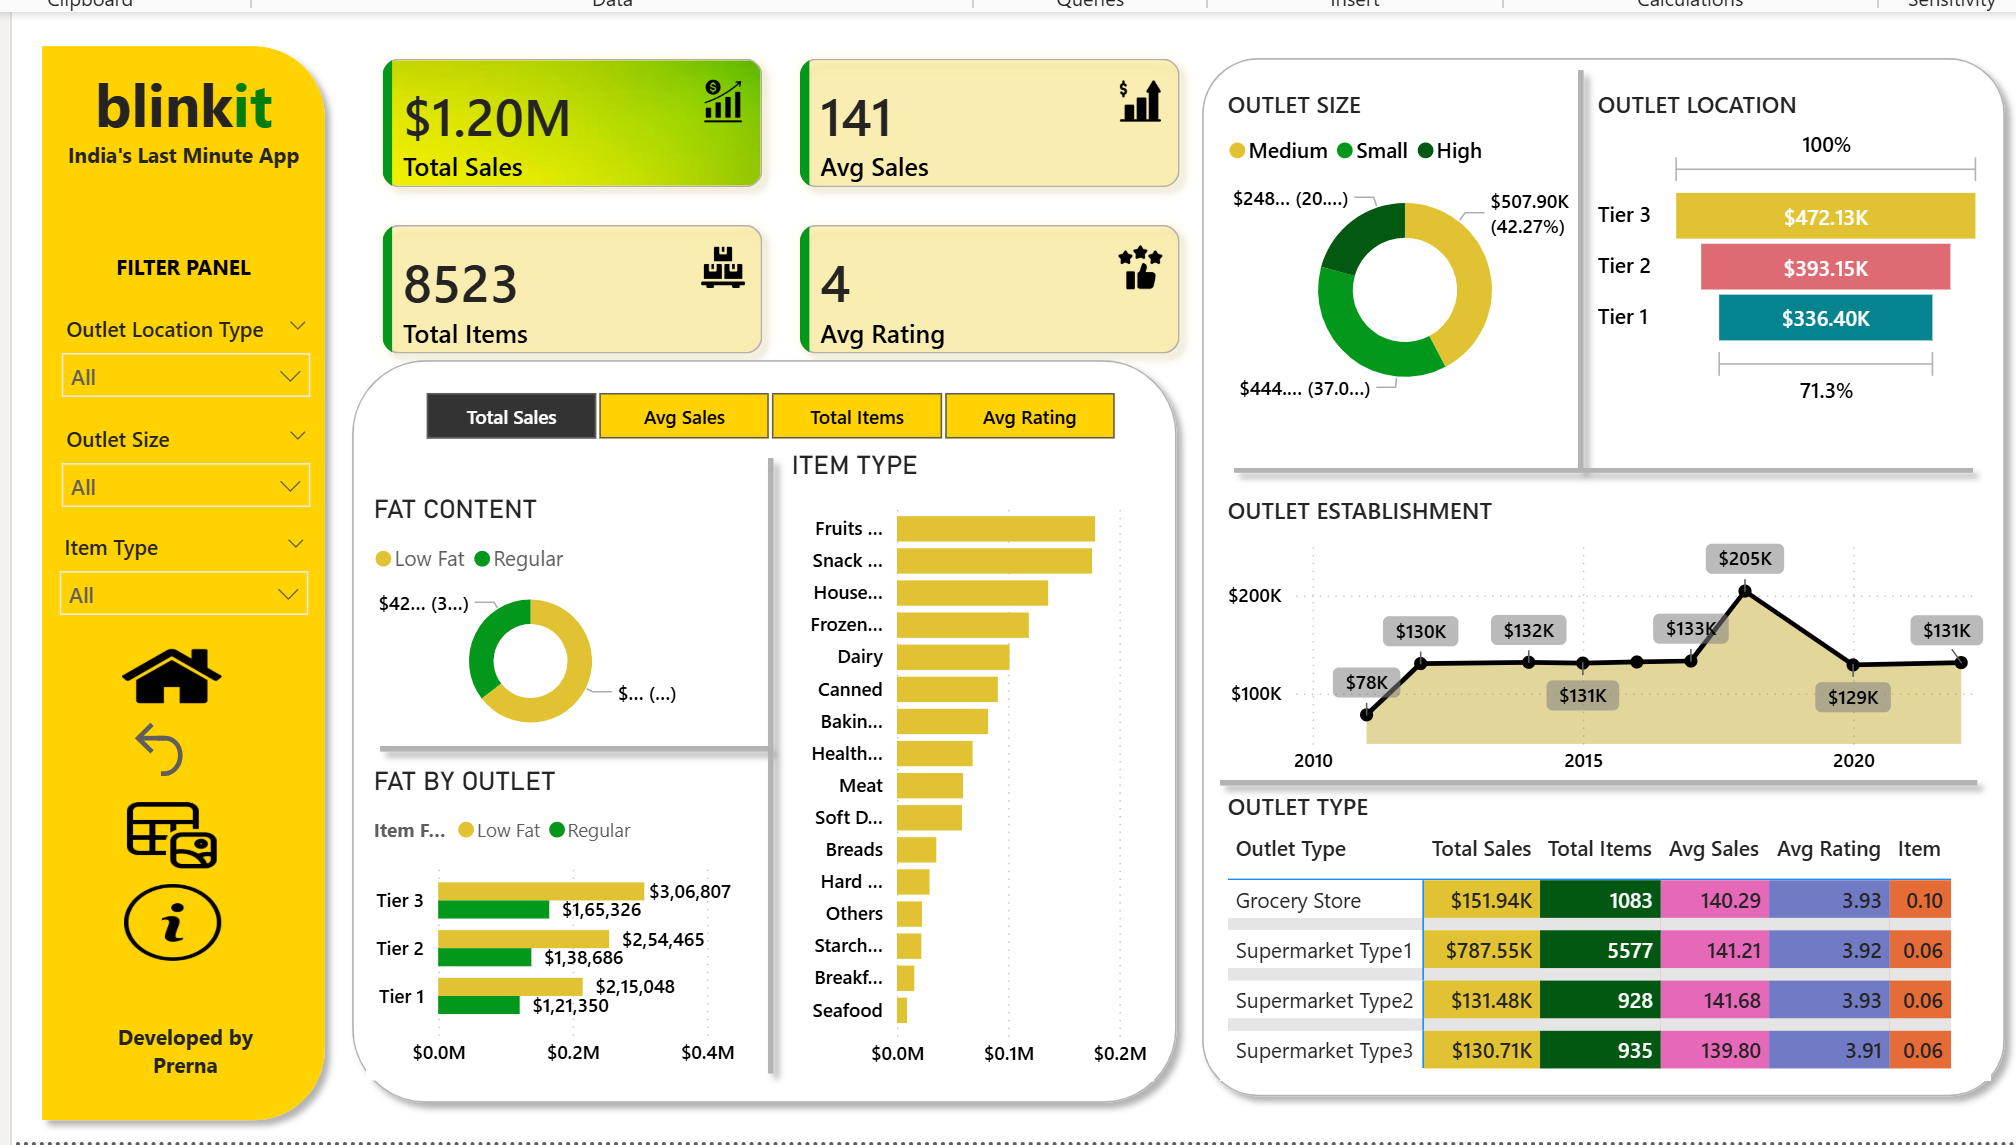

What the dashboard file says about the page in this screenshot:
{"tool":"powerbi","page":{"name":"Dashboard","canvas":[1280,720],"ordinal":0},"visuals":[{"type":"shape","box":[10.6,13.2,198.1,702.7],"z":0},{"type":"textbox","box":[45.9,27.6,127.1,67.4],"z":1000},{"type":"textbox","box":[30.6,76.6,157.7,35.2],"z":2000},{"type":"cardVisual","fields":{"Data":["BlinkIT Grocery Data.Total Sales","BlinkIT Grocery Data.Avg Sales","BlinkIT Grocery Data.Total Items","BlinkIT Grocery Data.Avg Rating"]},"box":[219.3,13.2,542.9,223.2],"z":3000},{"type":"shape","box":[208.2,212.8,543.5,491.5],"z":4000},{"type":"slicer","fields":{"Values":["Parameter.Parameter"]},"box":[238.9,235.8,488.4,42.9],"z":5000},{"type":"donutChart","title":"FAT CONTENT","fields":{"Y":["BlinkIT Grocery Data.Total Sales"],"Category":["BlinkIT Grocery Data.Item Fat Content"]},"box":[225.1,307.8,209.8,162.3],"z":6000},{"type":"clusteredBarChart","title":"FAT BY OUTLET","fields":{"Y":["BlinkIT Grocery Data.Total Sales"],"Category":["BlinkIT Grocery Data.Outlet Location Type"],"Series":["BlinkIT Grocery Data.Item Fat Content"]},"box":[225.1,480.8,255.7,200.6],"z":7000},{"type":"barChart","title":"ITEM TYPE","fields":{"Y":["BlinkIT Grocery Data.Total Sales"],"Category":["BlinkIT Grocery Data.Item Type"]},"box":[491.5,278.7,235.8,402.7],"z":8000},{"type":"shape","box":[225.1,459.3,266.4,21.4],"z":9000},{"type":"shape","box":[989.1,27.6,27.6,251.1],"z":10000},{"type":"shape","box":[750.2,19.9,529.8,679.8],"z":11000},{"type":"donutChart","title":" OUTLET SIZE","fields":{"Category":["BlinkIT Grocery Data.Outlet Size"],"Y":["BlinkIT Grocery Data.Total Sales"]},"box":[770.1,49,235.8,208.2],"z":12000},{"type":"funnel","title":"OUTLET LOCATION","fields":{"Category":["BlinkIT Grocery Data.Outlet Location Type"],"Y":["BlinkIT Grocery Data.Total Sales"]},"box":[1005.9,49,255.7,208.2],"z":13000},{"type":"lineChart","title":"OUTLET ESTABLISHMENT","fields":{"Category":["BlinkIT Grocery Data.Outlet Establishment Year"],"Y":["BlinkIT Grocery Data.Total Sales"]},"box":[770.1,307.8,491.5,188.3],"z":14000},{"type":"pivotTable","title":"OUTLET TYPE","fields":{"Rows":["BlinkIT Grocery Data.Outlet Type"],"Values":["BlinkIT Grocery Data.Total Sales","BlinkIT Grocery Data.Total Items","BlinkIT Grocery Data.Avg Sales","BlinkIT Grocery Data.Avg Rating","Avg(BlinkIT Grocery Data.Item Visibility)"]},"box":[770.1,496.1,491.5,185.3],"z":15000},{"type":"shape","box":[761,480.8,500.7,21.4],"z":16000},{"type":"shape","box":[473.1,275.6,21.4,410.3],"z":17000},{"type":"shape","box":[989.1,27.6,21.4,272.5],"z":18000},{"type":"shape","box":[770.1,281.7,489,21],"z":19000},{"type":"slicer","fields":{"Values":["BlinkIT Grocery Data.Outlet Location Type"]},"box":[21.1,187.6,178.3,70],"z":20000},{"type":"slicer","fields":{"Values":["BlinkIT Grocery Data.Outlet Size"]},"box":[21.1,257.6,178.3,71.3],"z":21000},{"type":"slicer","fields":{"Values":["BlinkIT Grocery Data.Item Type"]},"box":[19.8,326.3,178.3,62.1],"z":22000},{"type":"textbox","box":[46.2,147.9,126.8,31.7],"z":23000},{"type":"actionButton","box":[70,401.6,63.4,43.6],"z":24000},{"type":"actionButton","box":[71.3,447.8,62.1,44.9],"z":25000},{"type":"actionButton","box":[71.3,556.1,62.1,48.9],"z":26000},{"type":"actionButton","box":[71.3,502,60.8,44.9],"z":27000},{"type":"textbox","box":[48.9,639.3,124.2,47.6],"z":28000}]}

Visuals, with their boxes on the page's 1280x720 design canvas (x1, y1, x2, y2). These are canvas units, not pixel positions in the 2016x1145 screenshot, which may show the page scaled, cropped or inside an application window:
shape: l=11, t=13, r=209, b=716
textbox: l=46, t=28, r=173, b=95
textbox: l=31, t=77, r=188, b=112
cardVisual - BlinkIT Grocery Data.Total Sales x BlinkIT Grocery Data.Avg Sales: l=219, t=13, r=762, b=236
shape: l=208, t=213, r=752, b=704
slicer - Parameter.Parameter: l=239, t=236, r=727, b=279
"FAT CONTENT" donutChart: l=225, t=308, r=435, b=470
"FAT BY OUTLET" clusteredBarChart: l=225, t=481, r=481, b=681
"ITEM TYPE" barChart: l=492, t=279, r=727, b=681
shape: l=225, t=459, r=492, b=481
shape: l=989, t=28, r=1017, b=279
shape: l=750, t=20, r=1280, b=700
" OUTLET SIZE" donutChart: l=770, t=49, r=1006, b=257
"OUTLET LOCATION" funnel: l=1006, t=49, r=1262, b=257
"OUTLET ESTABLISHMENT" lineChart: l=770, t=308, r=1262, b=496
"OUTLET TYPE" pivotTable: l=770, t=496, r=1262, b=681
shape: l=761, t=481, r=1262, b=502
shape: l=473, t=276, r=494, b=686
shape: l=989, t=28, r=1010, b=300
shape: l=770, t=282, r=1259, b=303
slicer - BlinkIT Grocery Data.Outlet Location Type: l=21, t=188, r=199, b=258
slicer - BlinkIT Grocery Data.Outlet Size: l=21, t=258, r=199, b=329
slicer - BlinkIT Grocery Data.Item Type: l=20, t=326, r=198, b=388
textbox: l=46, t=148, r=173, b=180
actionButton: l=70, t=402, r=133, b=445
actionButton: l=71, t=448, r=133, b=493
actionButton: l=71, t=556, r=133, b=605
actionButton: l=71, t=502, r=132, b=547
textbox: l=49, t=639, r=173, b=687
